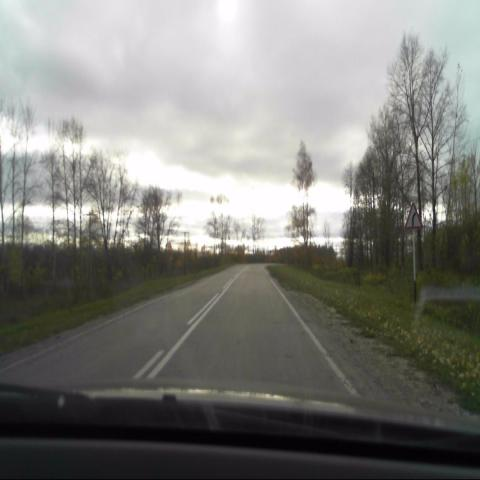1_11: (404, 202, 422, 232)
